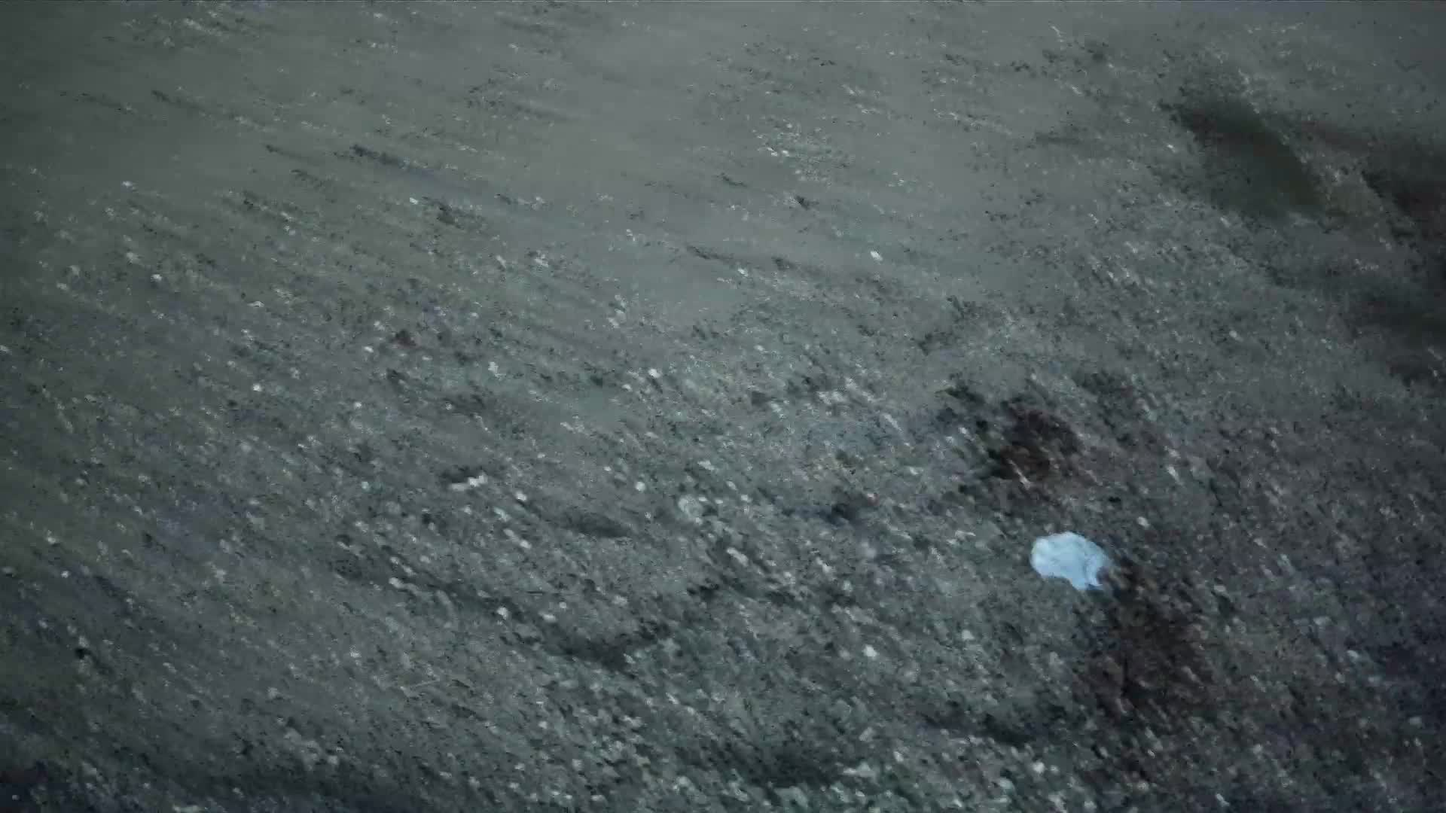Target: (1027, 526, 1129, 601)
